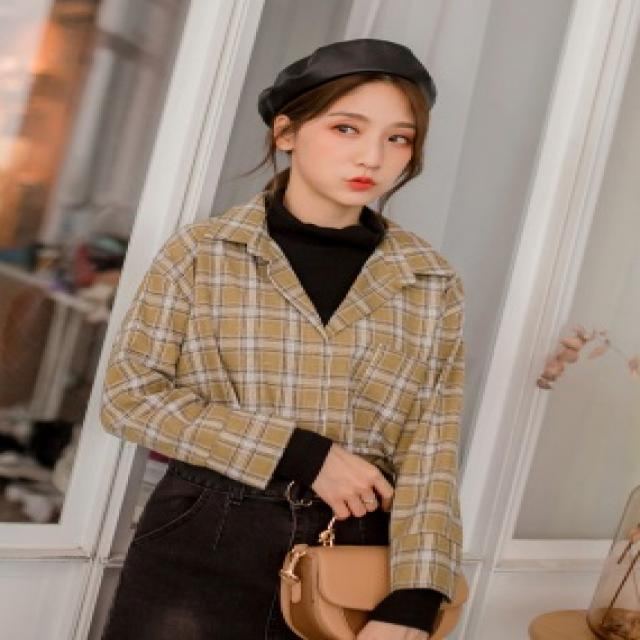plaid: (110, 201, 485, 515)
